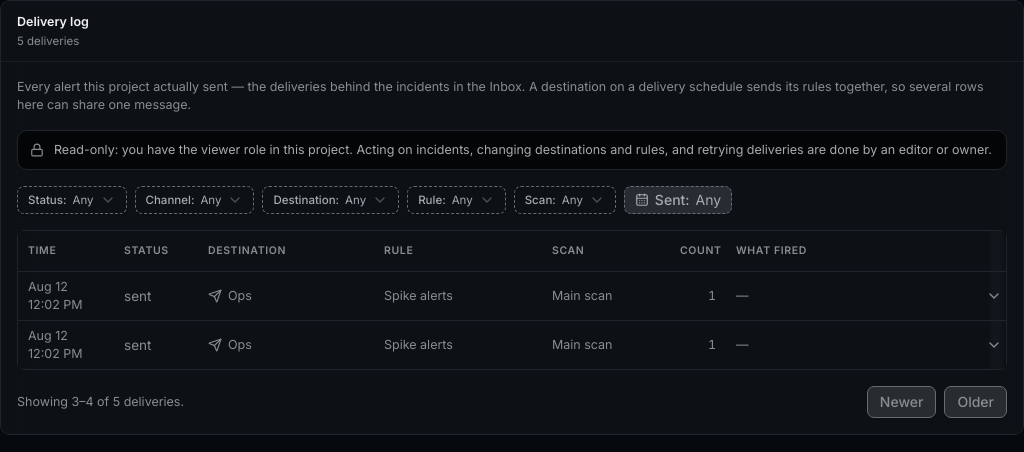
AlertAuditPanel paging › steps back by exactly one page and never past the first
This screenshot has width=1024, height=452.
Click the button "Newer" at x=902, y=402, box [867,386,936,418]
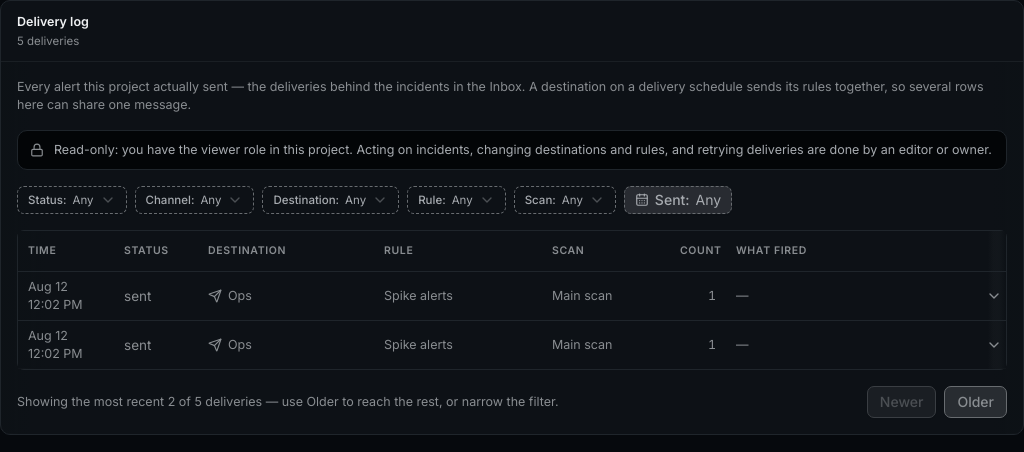
Result: the button "Newer" is disabled at [867,386,936,418]
